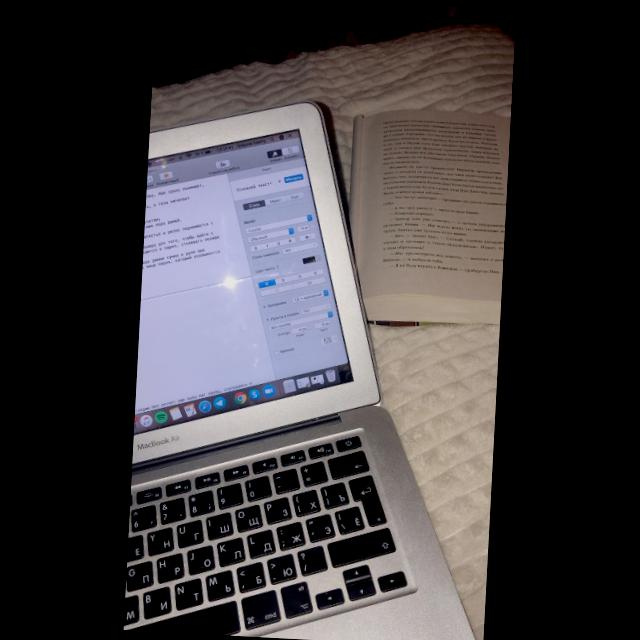laptop: (124, 103, 474, 640)
